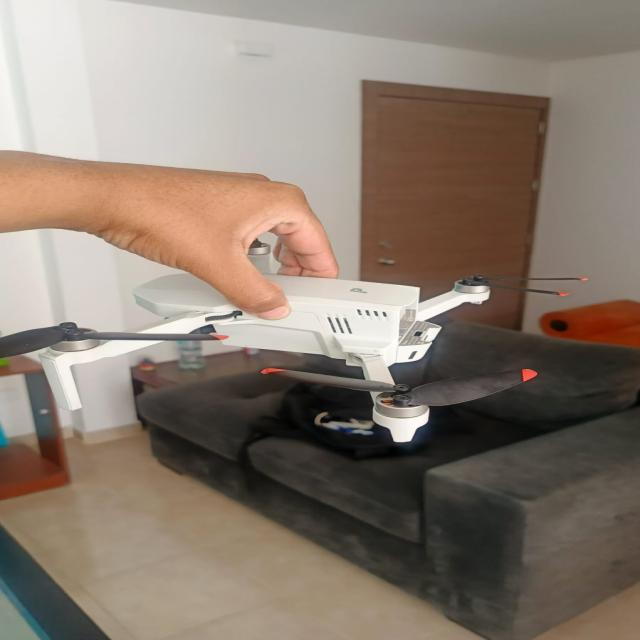dron: (7, 262, 590, 446)
